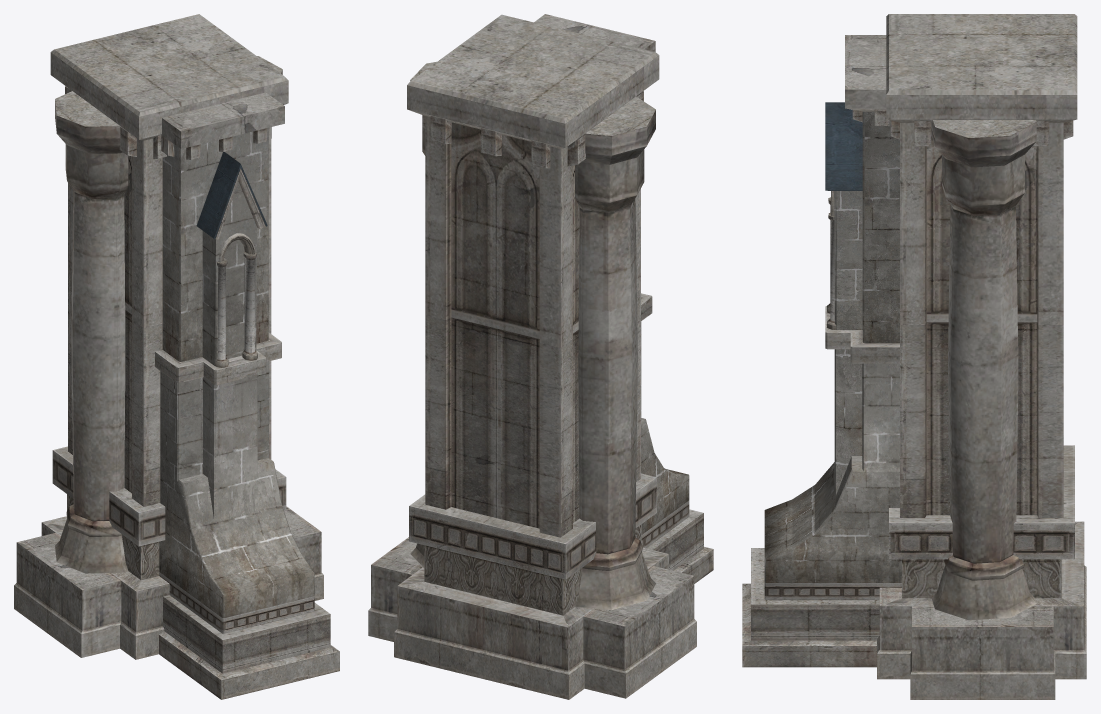
File: bg_lut_lucastle_arch01_sm_ysi.FBX
3 renders of one model, left to right at view 1: azimuth 30°, elevation 25°; view 2: azimuth 150°, elevation 25°; view 3: azimuth 270°, elevation 25°, orthographic. The views are drawn at different scales.
Parts seen in each view (by area): view 1: bg_lut_lucastle_arch01_sm_ysi; view 2: bg_lut_lucastle_arch01_sm_ysi; view 3: bg_lut_lucastle_arch01_sm_ysi.
Boxes of the visible parts, x1,y1,x2,y2 form: bg_lut_lucastle_arch01_sm_ysi: (14, 14, 339, 699); bg_lut_lucastle_arch01_sm_ysi: (368, 14, 713, 699); bg_lut_lucastle_arch01_sm_ysi: (742, 14, 1086, 699).
Bounding box in the file's own units: 121 × 257 × 138.
